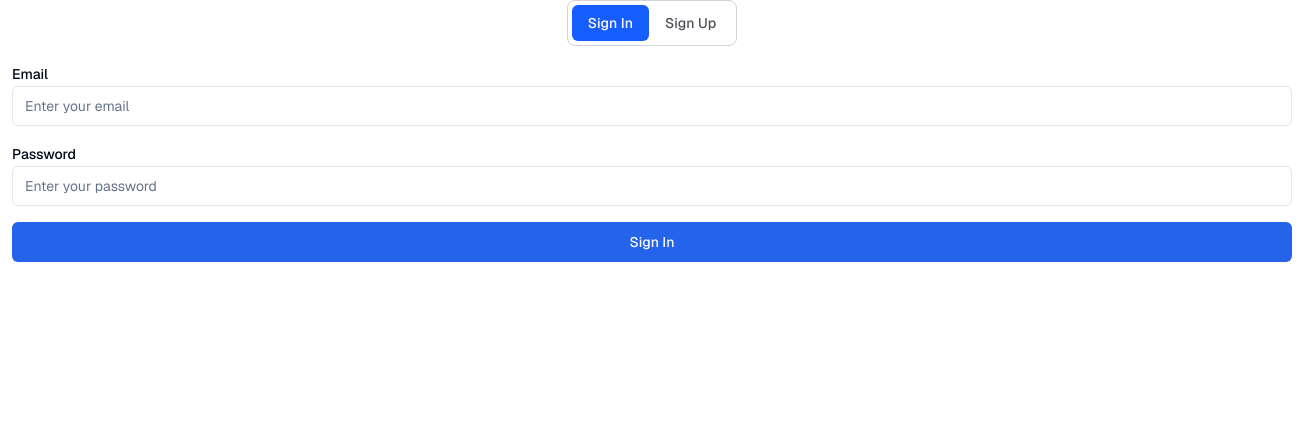
Scenario: EmailPasswordForm Component (RED PHASE) › Sign Up Functionality › should display success message on successful signup
The width and height of the screenshot is (1304, 421).
Click the button "Sign Up" at (691, 23), box top-left (649, 5), bottom-right (732, 41)
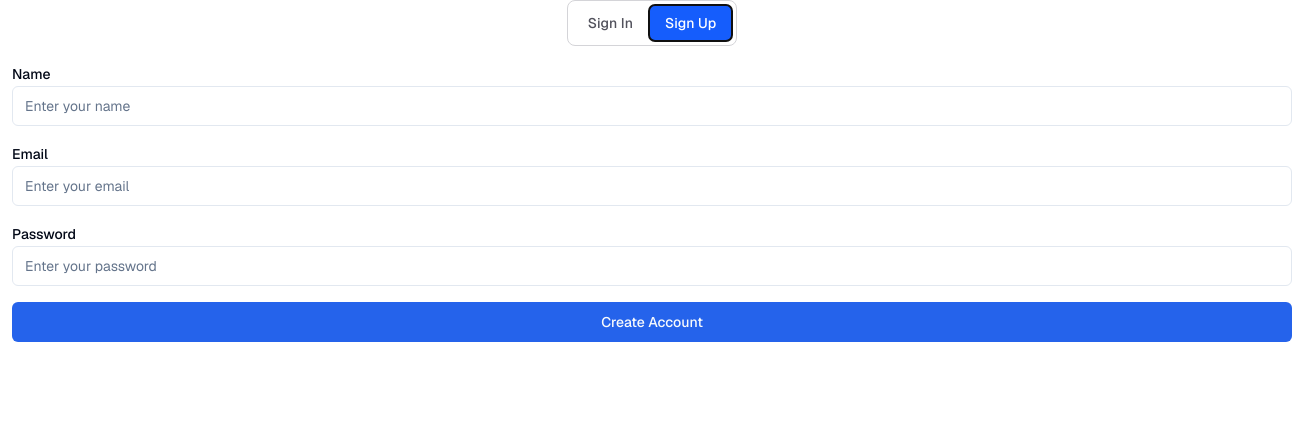
Type "Test User" into the field labelled "Name" at (652, 106), box top-left (12, 86), bottom-right (1292, 126)
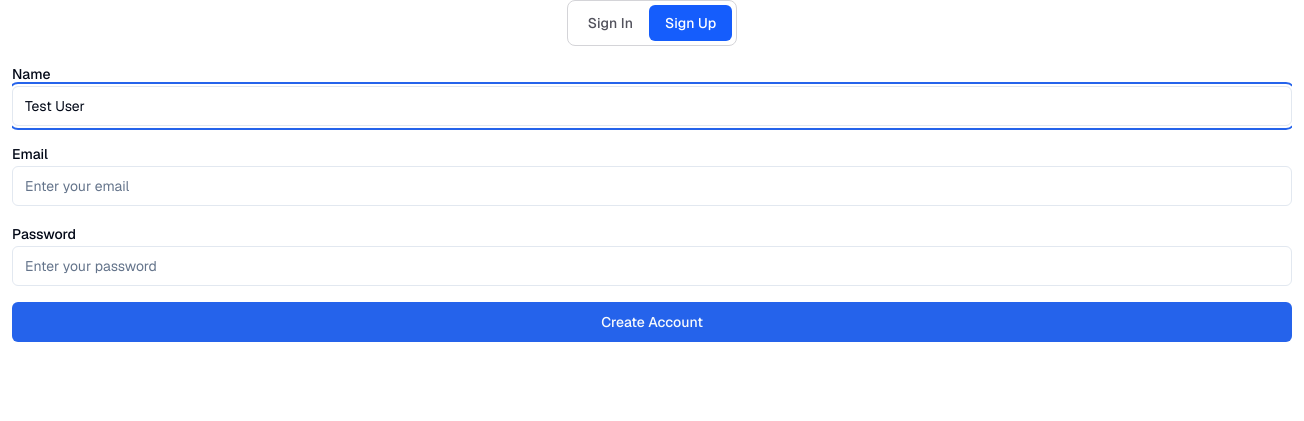
Type "test@example.com" into the field labelled "Email" at (652, 186), box top-left (12, 166), bottom-right (1292, 206)
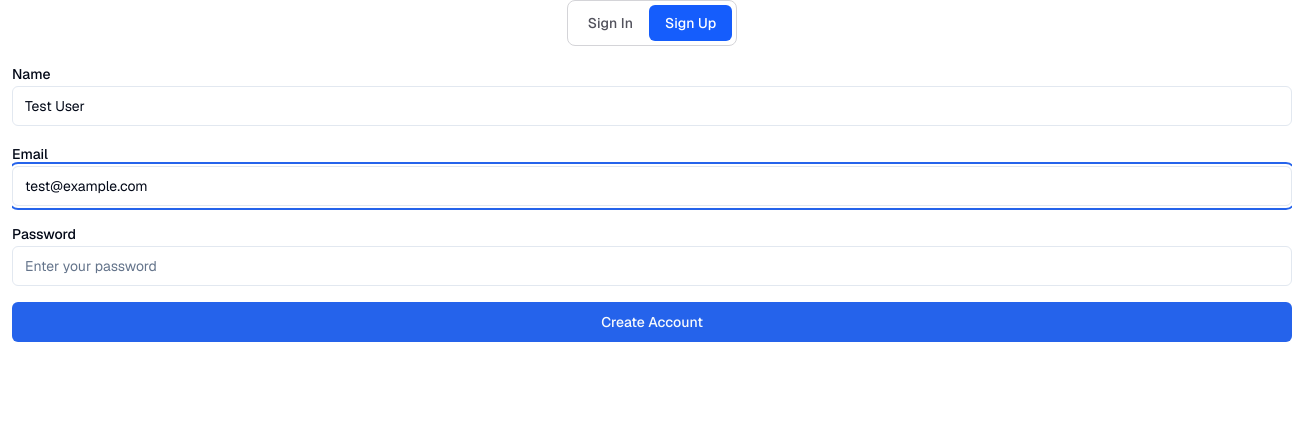
Type "password123" into the password field labelled "Password" at (652, 266), box top-left (12, 246), bottom-right (1292, 286)
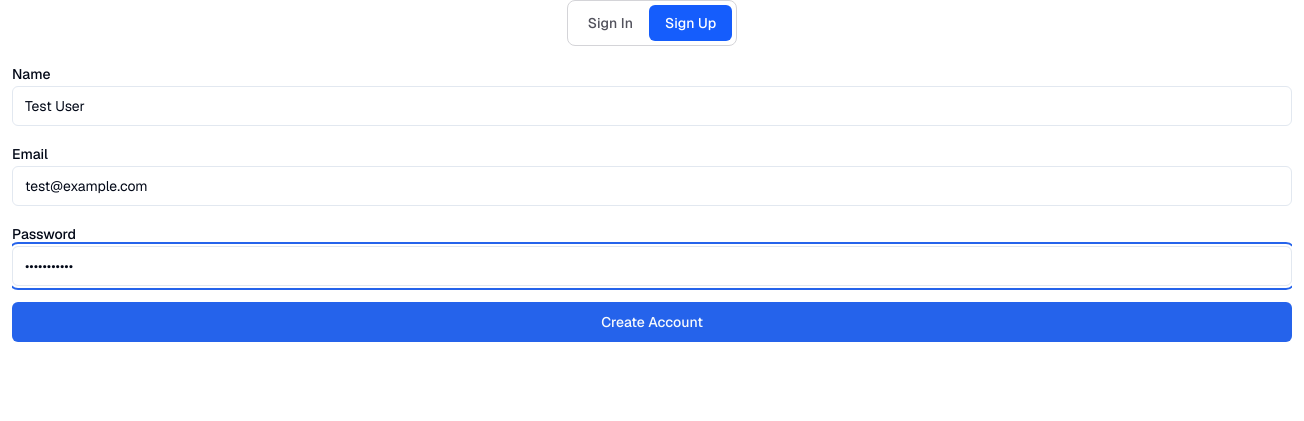
Click the button "Create Account" at (652, 322), box top-left (12, 302), bottom-right (1292, 342)
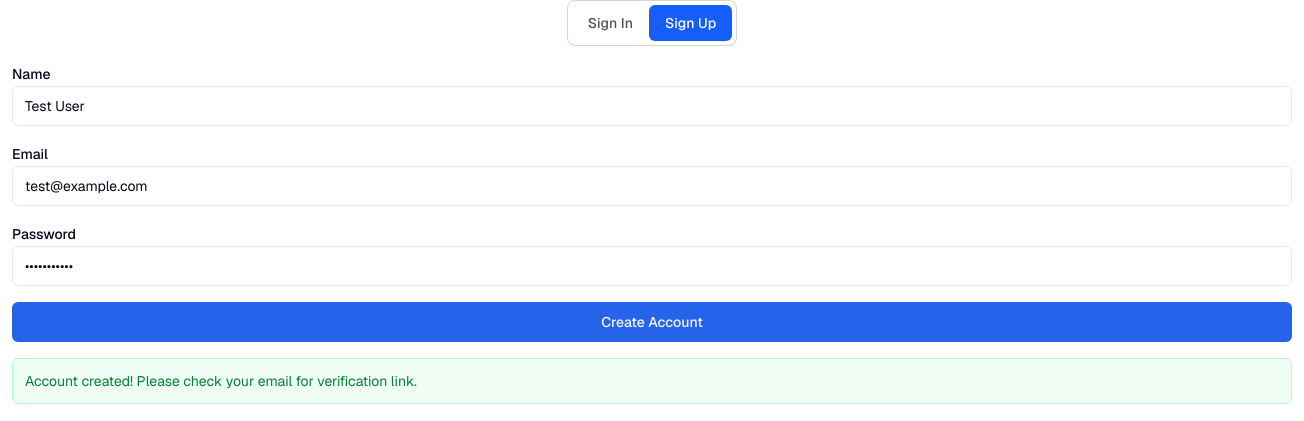
Expected: the text "Account created! Please check your email for verification link" is shown, top-left (25, 372), bottom-right (417, 390)
